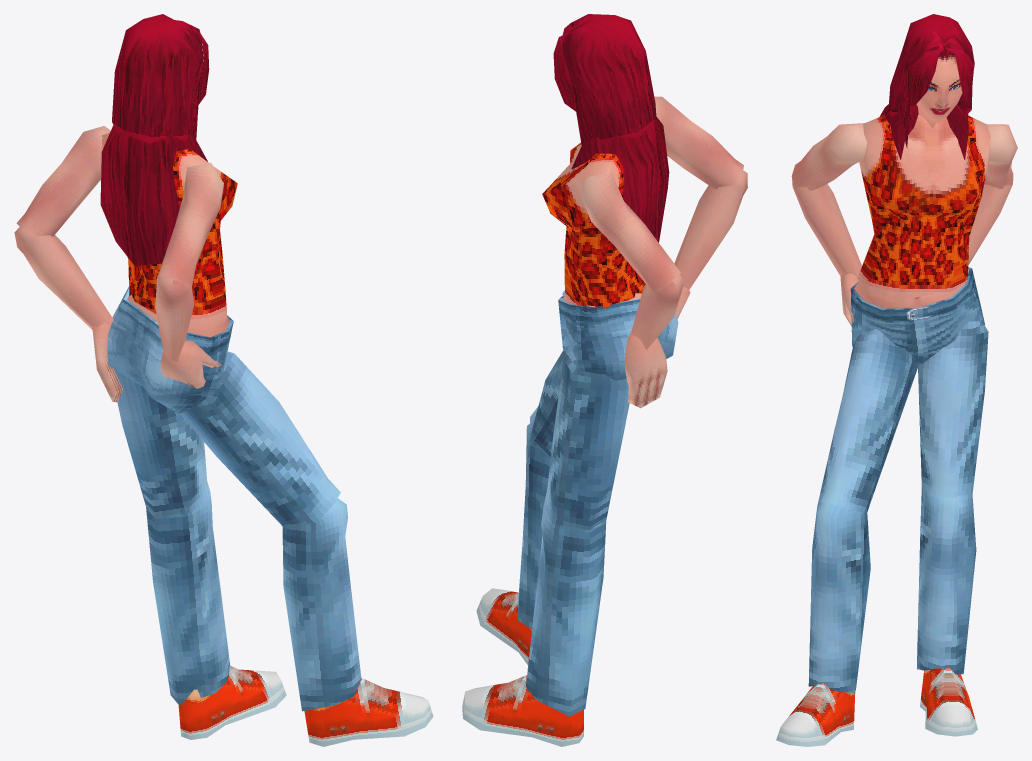
The model's file is driver-gena.glb.
3 views of the same model, side by side, from view 1: azimuth 30°, elevation 25°; view 2: azimuth 150°, elevation 25°; view 3: azimuth 270°, elevation 25° (orthographic). The views are drawn at different scales.
Parts seen in each view (by area): view 1: m318, m322, m321, m308, m320, m317, m315, m319, m312, m313, m311, m314 (+5 smaller); view 2: m321, m317, m308, m319, m315, m311, m320, m313, m314, m332, m322, m323 (+4 smaller); view 3: m319, m318, m322, m317, m321, m315, m308, m312, m332, m311, m314, m309 (+5 smaller).
Part boxes in pixels (left/top/right/bottom): m318: left=180, top=351, right=340, bottom=526; m322: left=282, top=498, right=361, bottom=711; m321: left=146, top=494, right=229, bottom=704; m308: left=112, top=14, right=203, bottom=143; m320: left=100, top=125, right=207, bottom=265; m317: left=114, top=369, right=210, bottom=516; m315: left=107, top=287, right=233, bottom=413; m319: left=101, top=132, right=237, bottom=327; m312: left=304, top=678, right=433, bottom=746; m313: left=16, top=126, right=110, bottom=236; m311: left=178, top=665, right=286, bottom=739; m314: left=157, top=162, right=223, bottom=286; m321: left=526, top=507, right=606, bottom=716; m317: left=543, top=345, right=629, bottom=529; m308: left=560, top=14, right=656, bottom=144; m319: left=542, top=143, right=645, bottom=308; m315: left=558, top=293, right=678, bottom=380; m311: left=462, top=675, right=583, bottom=746; m320: left=571, top=116, right=669, bottom=242; m313: left=582, top=173, right=680, bottom=292; m314: left=654, top=96, right=743, bottom=188; m332: left=674, top=170, right=747, bottom=289; m322: left=518, top=424, right=550, bottom=628; m323: left=624, top=333, right=667, bottom=408; m319: left=857, top=114, right=990, bottom=303; m318: left=817, top=329, right=919, bottom=513; m322: left=808, top=502, right=870, bottom=692; m317: left=918, top=321, right=988, bottom=498; m321: left=916, top=487, right=976, bottom=674; m315: left=850, top=267, right=984, bottom=363; m308: left=888, top=14, right=974, bottom=128; m312: left=776, top=683, right=855, bottom=746; m332: left=792, top=176, right=861, bottom=278; m311: left=920, top=667, right=977, bottom=736; m314: left=791, top=123, right=867, bottom=190; m309: left=898, top=48, right=944, bottom=148.
Bounding box in the file's own units: 7.72 × 17.5 × 5.7.
21 materials, 21 textured.
